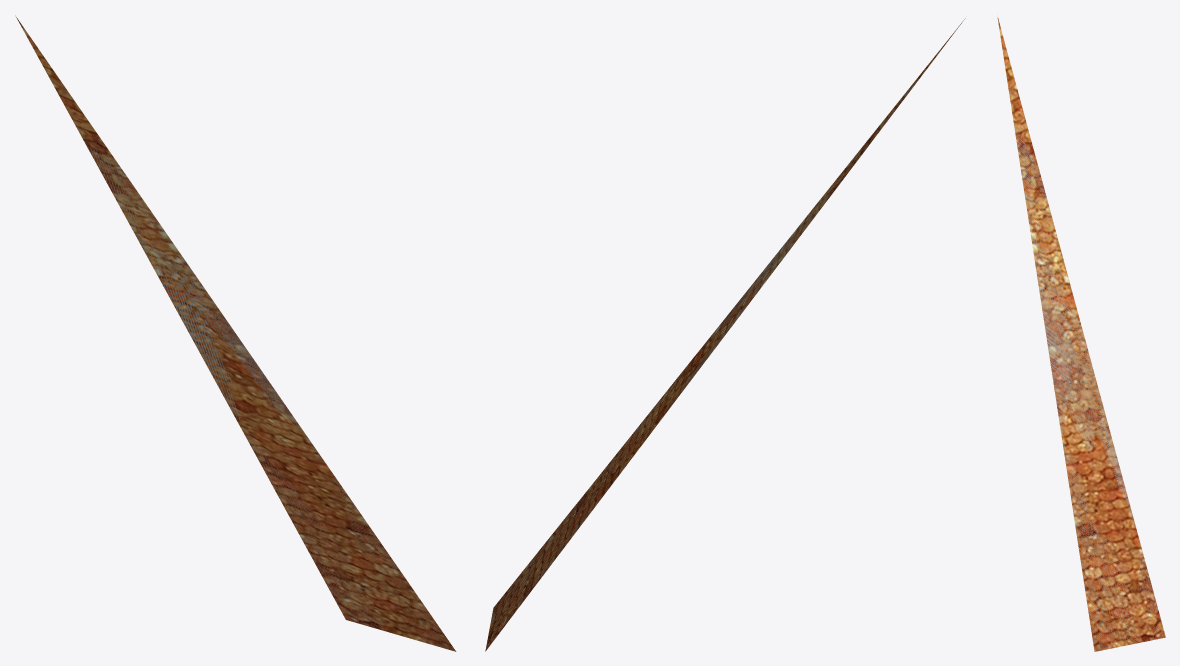
File: 西庸城堡112.dae
3 views of the same model, side by side, from view 1: azimuth 30°, elevation 25°; view 2: azimuth 150°, elevation 25°; view 3: azimuth 270°, elevation 25° (orthographic). The views are drawn at different scales.
Visible parts, largest first — view 1: SketchUp; view 2: SketchUp; view 3: SketchUp.
Part boxes in pixels (left/top/right/bottom): SketchUp: left=15, top=15, right=456, bottom=651; SketchUp: left=485, top=18, right=965, bottom=651; SketchUp: left=997, top=16, right=1165, bottom=651.
Bounding box in the file's own units: 183 × 86.6 × 276.
